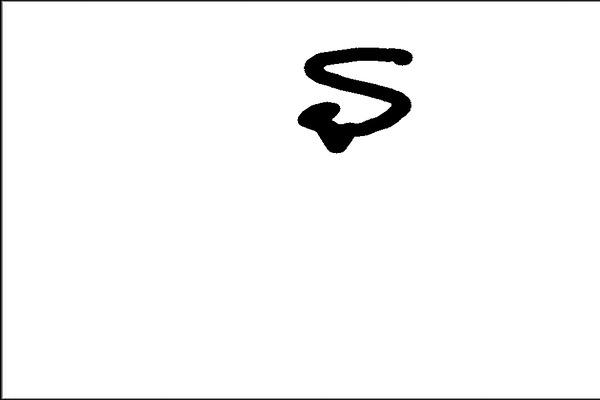S: (289, 38, 420, 155)
